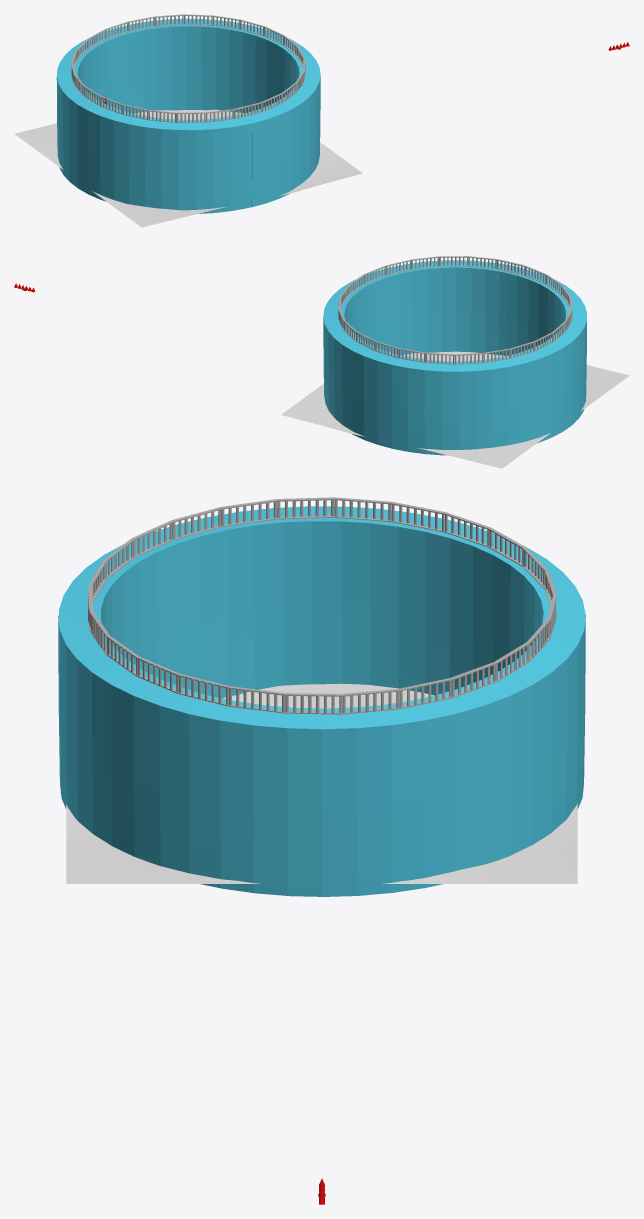
The model's file is spikes.fbx.
3 renders of one model, top to bottom at view 1: azimuth 30°, elevation 25°; view 2: azimuth 150°, elevation 25°; view 3: azimuth 270°, elevation 25°, orthographic. The views are drawn at different scales.
Visible parts, largest first — view 1: well, fences, ground; view 2: well, fences, ground; view 3: well, fences, ground.
Boxes of the visible parts, box(x1,y1,x2,y2) form: well: box(56, 18, 320, 213); fences: box(71, 14, 305, 122); ground: box(14, 109, 362, 227); well: box(323, 260, 586, 455); fences: box(338, 256, 572, 364); ground: box(281, 351, 629, 468); well: box(58, 506, 585, 896); fences: box(87, 497, 556, 714); ground: box(66, 683, 577, 883).
Size of the model in its own units: 8873 by 1495 by 3655.
